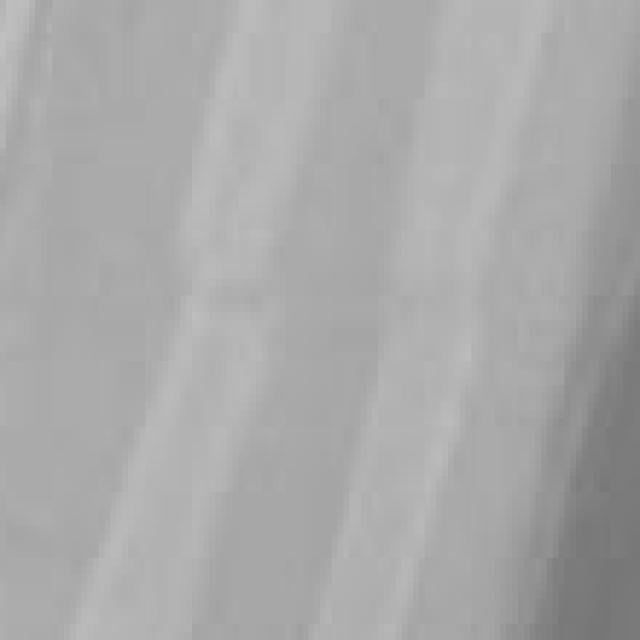fracture: (8, 3, 640, 640)
